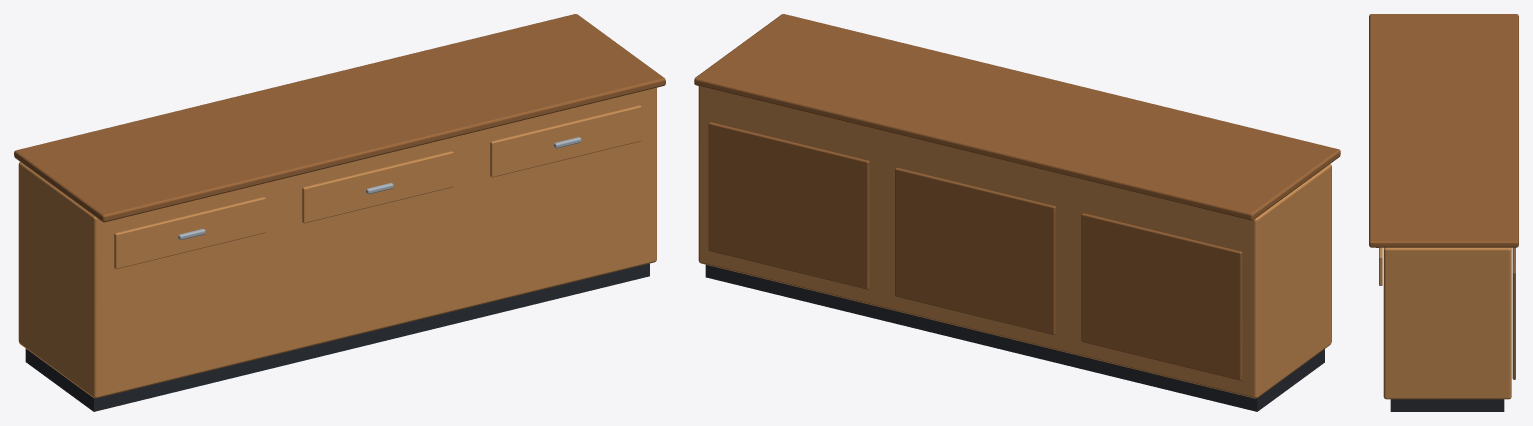
Rendered from balcao_modulo.glb.
3 renders of one model, left to right at view 1: azimuth 30°, elevation 25°; view 2: azimuth 150°, elevation 25°; view 3: azimuth 270°, elevation 25°, orthographic. The views are drawn at different scales.
Visible parts, largest first — view 1: corpo, tampo, gaveta (×3), rodape; view 2: painel_frente (×3), tampo, corpo, rodape; view 3: tampo, corpo, rodape, painel_frente, gaveta.
Part boxes in pixels (x1,y1,x2,y2): corpo: [18, 87, 656, 398]; tampo: [14, 14, 665, 222]; gaveta (×3): [114, 105, 641, 269]; rodape: [25, 263, 649, 411]; painel_frente (×3): [708, 122, 1242, 380]; tampo: [694, 14, 1340, 220]; corpo: [698, 86, 1331, 398]; rodape: [705, 265, 1324, 411]; tampo: [1369, 14, 1518, 247]; corpo: [1383, 247, 1511, 399]; rodape: [1390, 399, 1504, 411]; painel_frente: [1512, 247, 1515, 379]; gaveta: [1379, 247, 1382, 285].
Size of the model in its own units: 3 by 1.05 by 0.83.
